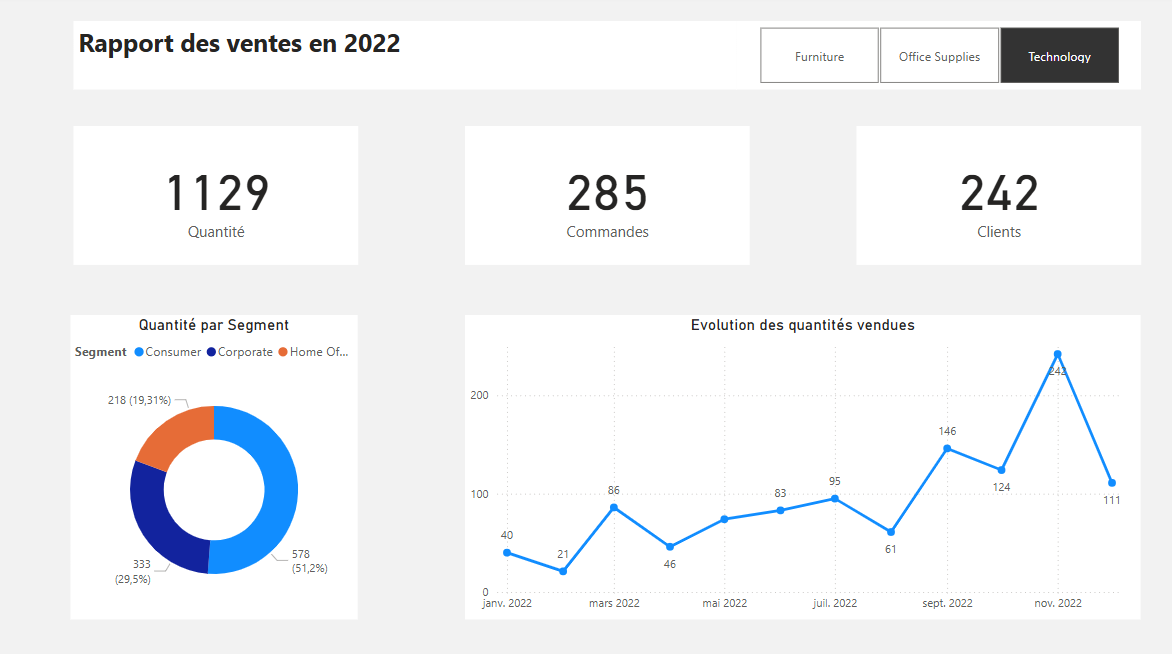

The dashboard page shown, as its layout file describes it:
{"tool":"powerbi","page":{"name":"Page 1","canvas":[1280,720],"ordinal":0},"visuals":[{"type":"card","fields":{"Values":["Sum(Commandes.Quantité)"]},"box":[85.7,141.7,307.4,149.8],"z":0},{"type":"card","fields":{"Values":["Count(Commandes.Numéro de Commande)"]},"box":[508.7,141.7,307.4,149.8],"z":1},{"type":"card","fields":{"Values":["Count(Commandes.Numéro de Client)"]},"box":[931.8,141.7,307.4,149.8],"z":2},{"type":"donutChart","title":"Quantité par Segment","fields":{"Category":["Client.Segment"],"Y":["Sum(Commandes.Quantité)"]},"box":[83.2,345.8,309.9,328.8],"z":3},{"type":"lineChart","title":"Evolution des quantités vendues","fields":{"Category":["Commandes.Date de Commande.Variation.Hiérarchie de dates.Année","Commandes.Date de Commande.Variation.Hiérarchie de dates.Trimestre","Commandes.Date de Commande.Variation.Hiérarchie de dates.Mois","Commandes.Date de Commande.Variation.Hiérarchie de dates.Jour"],"Y":["Sum(Commandes.Quantité)"]},"box":[508.4,345.8,729.5,328.8],"z":4},{"type":"slicer","fields":{"Values":["Produit.Catégorie"]},"box":[801.3,28.3,436.5,73.7],"z":5},{"type":"textbox","box":[85,28.3,716.2,73.7],"z":6}]}

Visuals, with their boxes in screenshot pixels (x1, y1, x2, y2), scaled from the page's 1280x720 canvas onto the 1172x654 screenshot:
card - Sum(Commandes.Quantité): 78:129:360:265
card - Count(Commandes.Numéro de Commande): 466:129:747:265
card - Count(Commandes.Numéro de Client): 853:129:1135:265
"Quantité par Segment" donutChart: 76:314:360:613
"Evolution des quantités vendues" lineChart: 466:314:1133:613
slicer - Produit.Catégorie: 734:26:1133:93
textbox: 78:26:734:93
